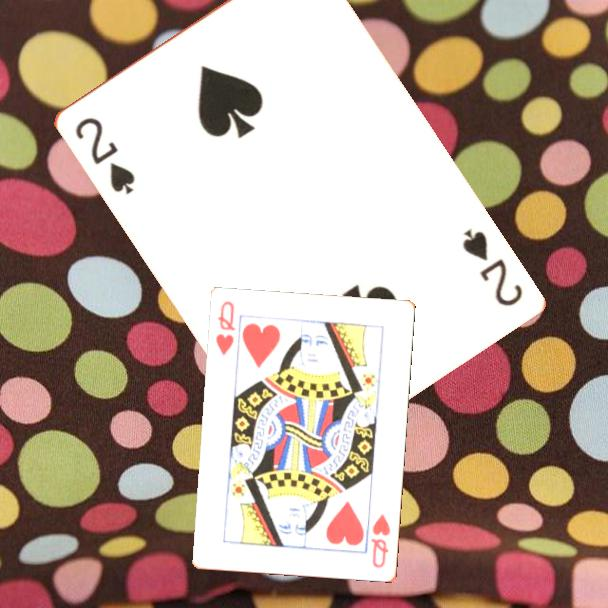h12: (368, 510, 394, 571), (213, 298, 238, 359)
s02: (71, 113, 138, 198), (458, 225, 525, 310)
